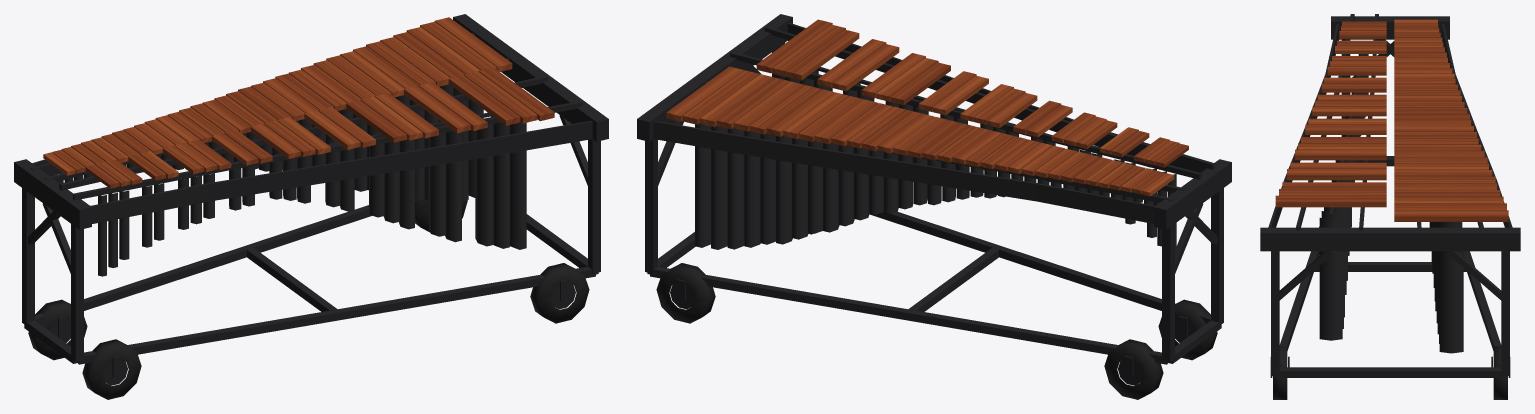
The model's file is marimba-4.6-synthetic-black-low.glb.
The picture shows the model from 3 angles, left to right: view 1: azimuth 30°, elevation 25°; view 2: azimuth 150°, elevation 25°; view 3: azimuth 270°, elevation 25°; orthographic projection. The views are drawn at different scales.
Visible parts, largest first — view 1: bars-synthetic, frame, resonators-black, artwork, rubber; view 2: frame, bars-synthetic, resonators-black, rubber; view 3: bars-synthetic, frame, resonators-black, rubber.
Part boxes in pixels (<box>): bars-synthetic: <box>43,17,554,188</box>; frame: <box>14,14,608,385</box>; resonators-black: <box>57,84,526,276</box>; artwork: <box>92,122,592,223</box>; rubber: <box>28,199,589,399</box>; frame: <box>637,14,1231,385</box>; bars-synthetic: <box>666,19,1188,196</box>; resonators-black: <box>695,70,1176,249</box>; rubber: <box>656,232,1217,399</box>; bars-synthetic: <box>1275,19,1508,221</box>; frame: <box>1260,14,1520,377</box>; resonators-black: <box>1319,54,1463,353</box>; rubber: <box>1273,346,1507,399</box>.
Bounding box in the file's own units: 2.38 × 0.9759 × 1.21.
Materials: 5 (1 with a texture image).
